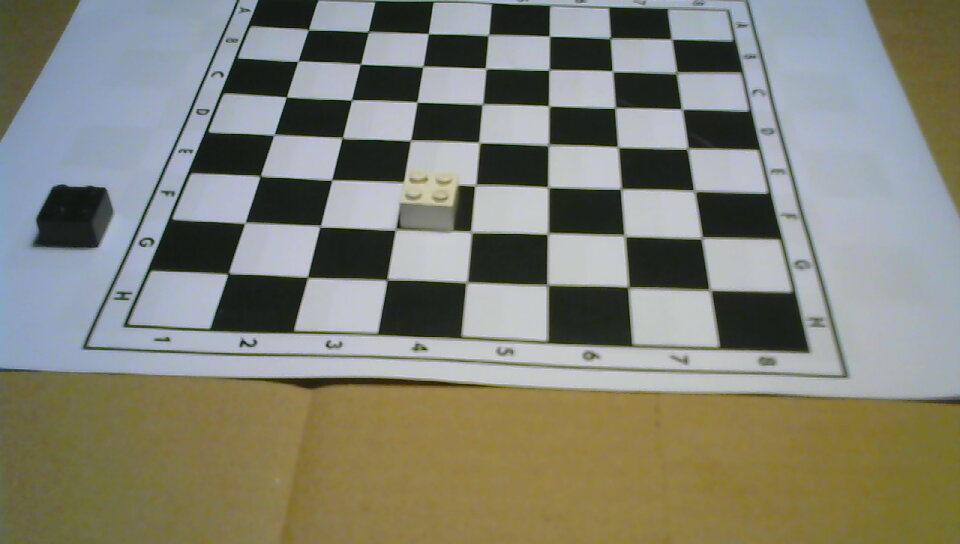bp: (37, 184, 114, 249)
wp: (401, 169, 459, 233)
